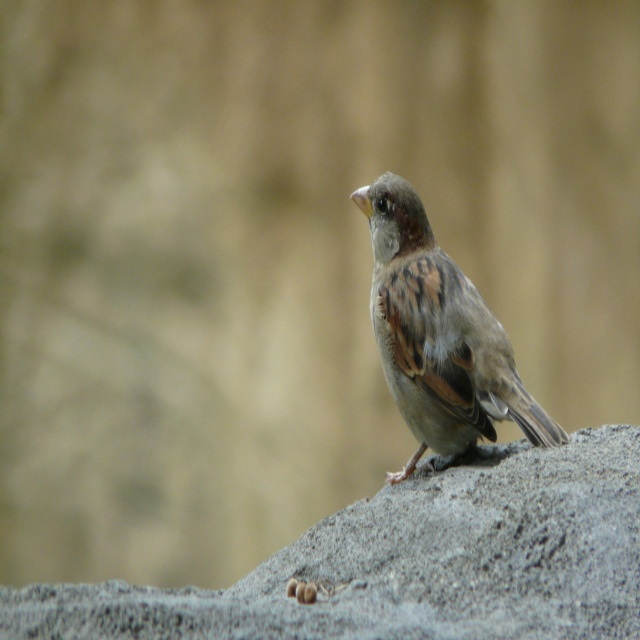Sparrow: (346, 173, 573, 486)
